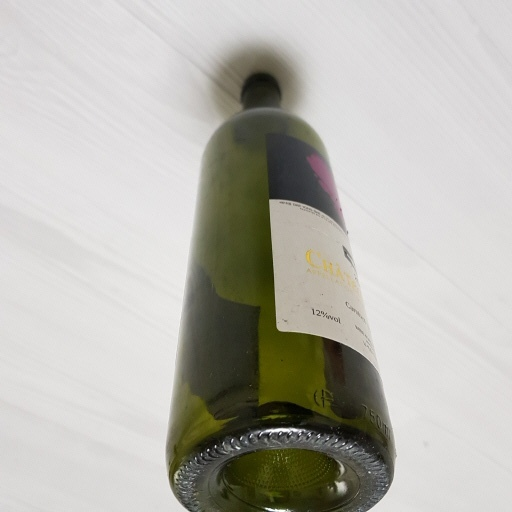Glass_2: (163, 74, 401, 512)
